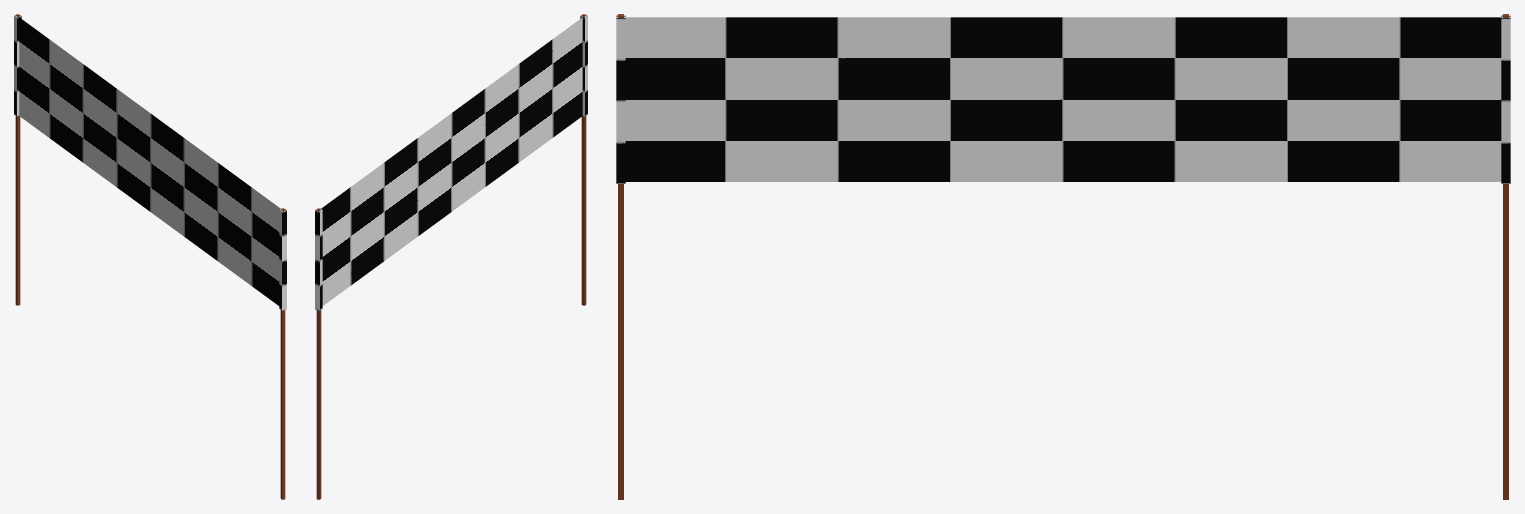
Rendered from FinishLine.fbx.
3 views of the same model, side by side, from view 1: azimuth 30°, elevation 25°; view 2: azimuth 150°, elevation 25°; view 3: azimuth 270°, elevation 25° (orthographic). The views are drawn at different scales.
Visible parts, largest first — view 1: Flag, Post_1, Post_2, Material_1, Material_2; view 2: Flag, Post_2, Post_1, Material_2, Material_1; view 3: Flag, Post_2, Post_1, Material_2, Material_1.
Part boxes in pixels (<box>): Flag: <box>19,17,280,305</box>; Post_1: <box>280,208,285,499</box>; Post_2: <box>15,14,20,305</box>; Material_1: <box>279,209,286,310</box>; Material_2: <box>14,15,21,116</box>; Flag: <box>321,17,582,305</box>; Post_2: <box>316,208,321,499</box>; Post_1: <box>581,14,586,305</box>; Material_2: <box>315,209,322,310</box>; Material_1: <box>580,15,587,116</box>; Flag: <box>625,17,1501,181</box>; Post_2: <box>1503,14,1508,499</box>; Post_1: <box>618,14,623,499</box>; Material_2: <box>1501,14,1510,183</box>; Material_1: <box>616,14,625,183</box>.
Bounding box in the file's own units: 42.76 × 2403 × 4028.
